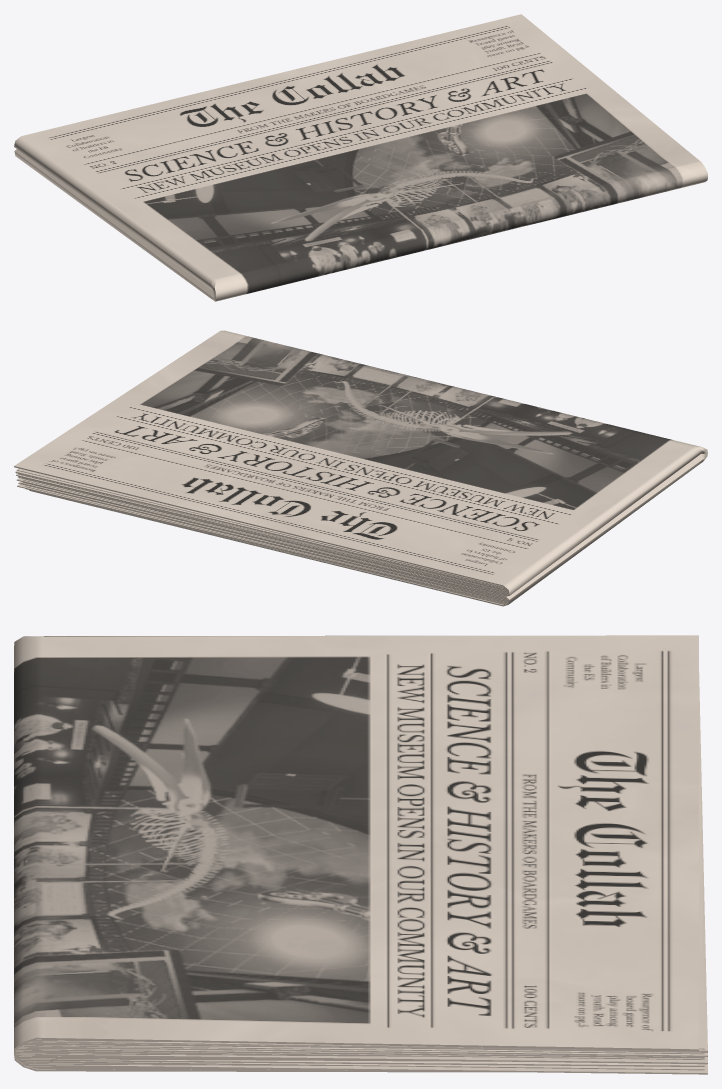
The model's file is mdl_brush_newsstack.gltf.
The picture shows the model from 3 angles, top to bottom: view 1: azimuth 30°, elevation 25°; view 2: azimuth 150°, elevation 25°; view 3: azimuth 270°, elevation 25°; orthographic projection. The views are drawn at different scales.
Parts seen in each view (by area): view 1: Newspaper; view 2: Newspaper; view 3: Newspaper.
Part boxes in pixels (x1,y1,x2,y2): Newspaper: (14, 14, 707, 301); Newspaper: (14, 330, 707, 606); Newspaper: (14, 635, 707, 1074).
Size of the model in its own units: 0.2605 by 0.0106 by 0.1819.
Materials: 1 (1 with a texture image).
